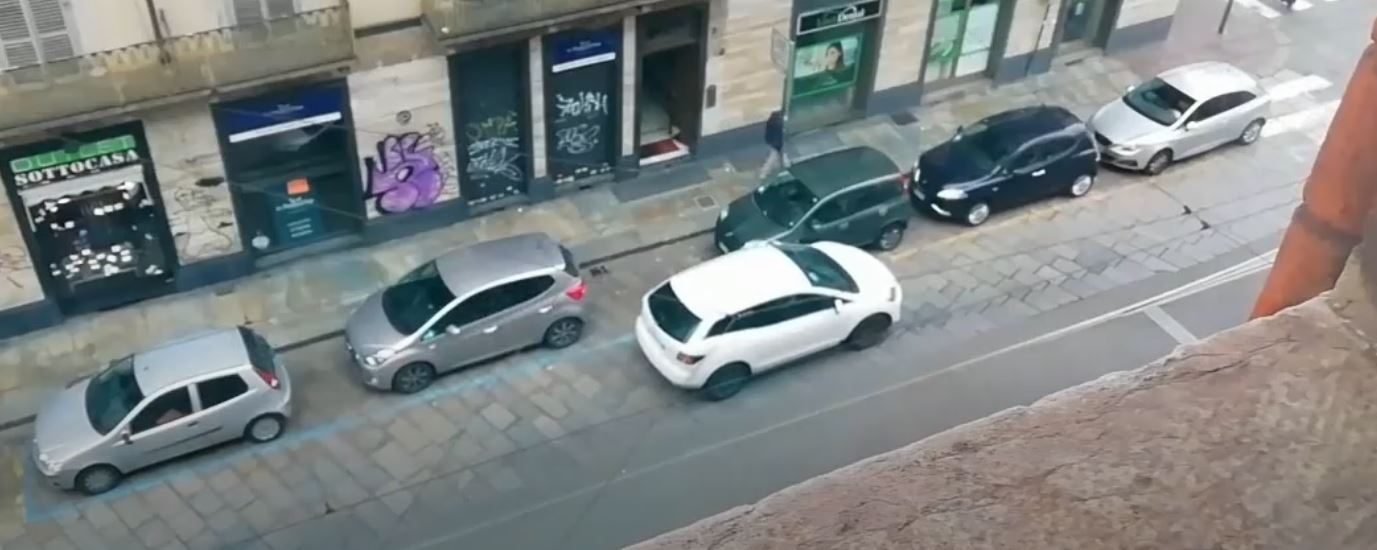car: (34, 326, 292, 495), (634, 238, 903, 399), (343, 231, 588, 394), (714, 147, 908, 270), (910, 104, 1099, 226), (1084, 59, 1268, 177)
